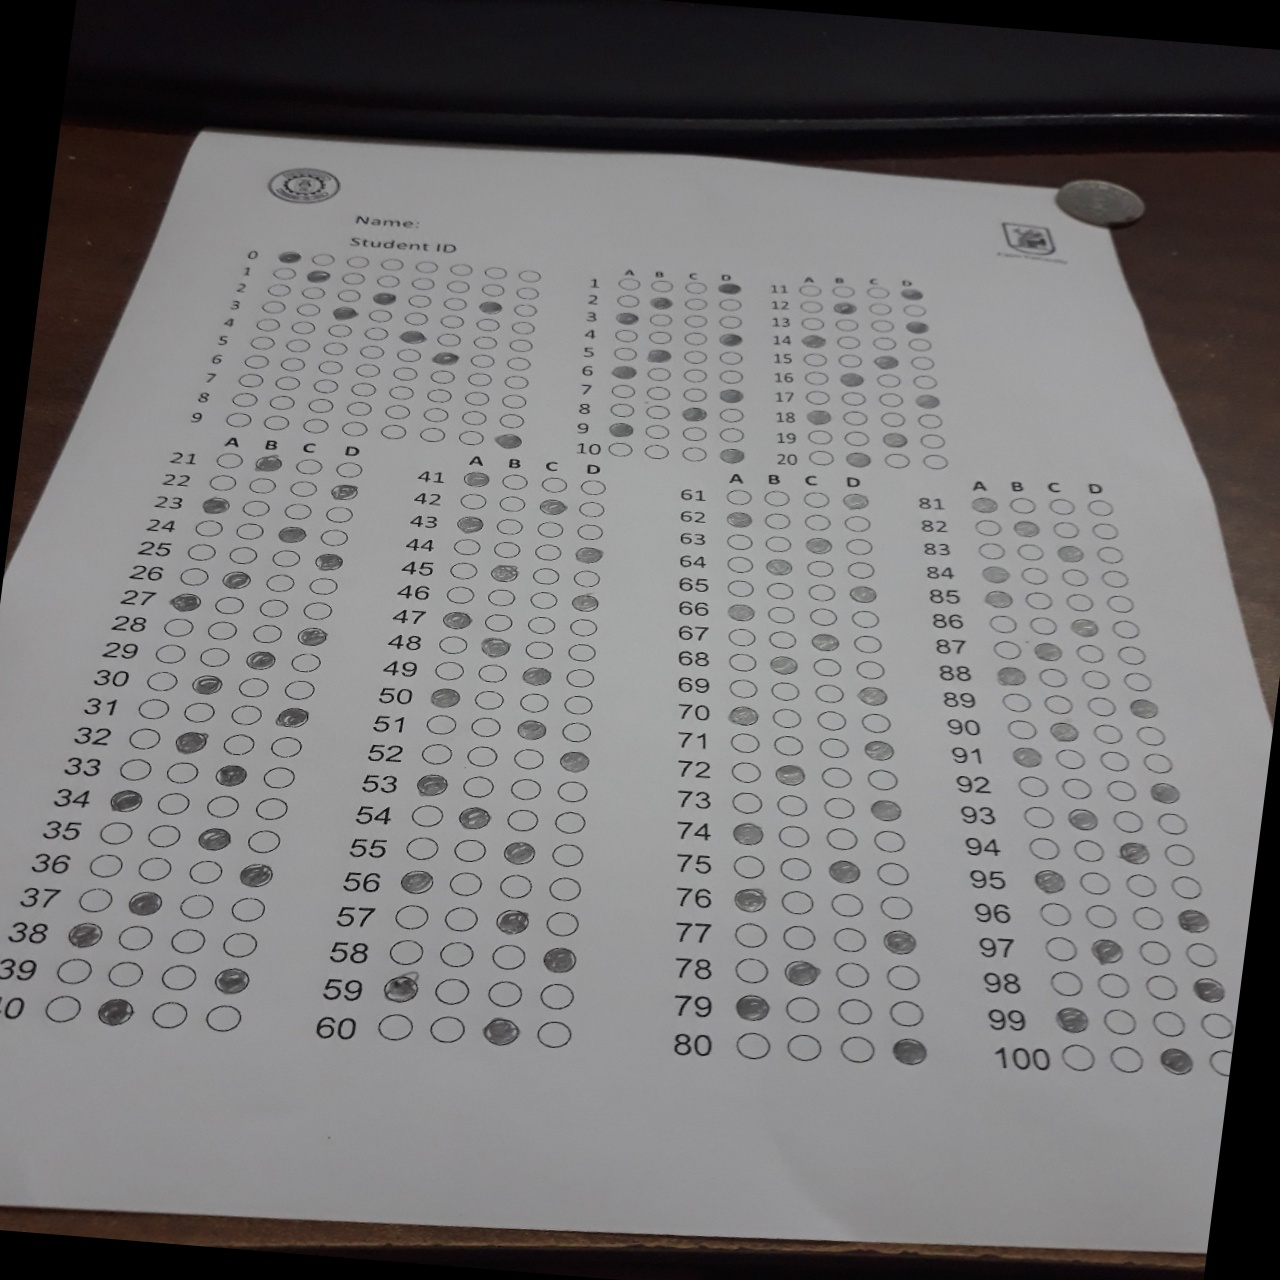not-c: (185, 856, 226, 886), (427, 1014, 467, 1044), (164, 756, 204, 787), (142, 822, 183, 851), (115, 756, 156, 785), (531, 1019, 570, 1049), (53, 956, 91, 987), (105, 959, 144, 989), (97, 816, 136, 846), (787, 1033, 826, 1062), (733, 920, 772, 949), (829, 925, 869, 954), (486, 978, 526, 1007), (148, 1000, 188, 1029), (42, 993, 82, 1022), (158, 961, 198, 990), (115, 922, 155, 952), (168, 925, 207, 954), (229, 896, 268, 925), (176, 890, 216, 919), (76, 886, 116, 915), (135, 852, 175, 881), (252, 795, 292, 824), (257, 764, 297, 794), (838, 1035, 877, 1064), (881, 961, 920, 990), (830, 890, 869, 919), (376, 1012, 415, 1041), (490, 941, 529, 971), (220, 931, 259, 960), (87, 850, 125, 879), (244, 826, 282, 856), (835, 996, 874, 1024), (731, 956, 771, 985), (873, 858, 913, 886), (441, 906, 481, 934), (437, 939, 477, 967), (431, 978, 471, 1006), (536, 982, 576, 1010), (728, 852, 769, 879), (139, 668, 181, 695), (234, 672, 275, 699), (887, 998, 926, 1026), (835, 960, 873, 988), (779, 922, 818, 951), (877, 892, 915, 920), (778, 888, 817, 917), (204, 1003, 243, 1032), (152, 787, 191, 815), (205, 792, 244, 821), (1107, 1046, 1146, 1073), (777, 855, 817, 881), (774, 823, 813, 850), (392, 903, 431, 930), (219, 731, 259, 758), (277, 673, 316, 700), (286, 649, 326, 676), (195, 644, 234, 670), (1167, 874, 1205, 903), (784, 995, 822, 1023), (447, 869, 484, 897), (1074, 869, 1112, 896), (734, 1032, 772, 1058), (871, 828, 910, 855), (544, 910, 583, 937), (387, 938, 425, 965), (125, 724, 164, 751), (267, 733, 306, 760), (1060, 1046, 1099, 1071), (822, 826, 862, 852), (498, 871, 535, 899), (547, 873, 584, 901), (1160, 840, 1198, 867), (1123, 871, 1160, 898), (1144, 974, 1182, 1001), (1197, 1012, 1234, 1039), (771, 789, 809, 816), (136, 695, 173, 722), (1024, 836, 1063, 862), (1129, 905, 1167, 931), (729, 789, 768, 815), (821, 796, 859, 822), (179, 700, 218, 726), (549, 842, 585, 869), (1137, 940, 1175, 966), (1185, 942, 1223, 968), (1096, 972, 1133, 998), (1150, 1010, 1187, 1036), (463, 743, 501, 769), (461, 774, 498, 799), (550, 809, 587, 835), (225, 700, 263, 726), (1099, 1008, 1138, 1033), (819, 762, 855, 789), (812, 678, 847, 704), (1070, 838, 1107, 864), (1084, 904, 1121, 930), (1036, 901, 1073, 927), (802, 602, 838, 628), (510, 745, 546, 771), (503, 806, 539, 832), (813, 707, 849, 733), (726, 676, 761, 702), (769, 678, 804, 703), (763, 627, 798, 653), (406, 836, 441, 862), (1041, 937, 1077, 961), (418, 741, 455, 765), (408, 803, 444, 828), (229, 520, 265, 545), (321, 502, 358, 526), (726, 729, 760, 755), (855, 658, 888, 683), (727, 622, 761, 648), (1050, 971, 1085, 995), (865, 768, 900, 792), (728, 758, 763, 783), (859, 710, 894, 735), (769, 704, 804, 729), (767, 578, 802, 602), (804, 580, 839, 605), (468, 715, 503, 740), (424, 714, 459, 738), (508, 777, 543, 802), (178, 564, 213, 588), (331, 457, 366, 482), (556, 779, 592, 803), (203, 618, 239, 641), (209, 593, 245, 617), (259, 571, 295, 594), (185, 537, 222, 560), (316, 526, 353, 550), (817, 734, 850, 760), (810, 653, 844, 678), (726, 649, 760, 674), (850, 632, 884, 656), (726, 576, 760, 600), (481, 612, 515, 636), (1110, 811, 1145, 835), (763, 602, 798, 626), (451, 839, 486, 863), (256, 594, 291, 618), (306, 573, 341, 597), (268, 546, 304, 570), (190, 515, 225, 538), (248, 621, 285, 644), (298, 598, 334, 620), (771, 731, 804, 756), (847, 608, 881, 632), (566, 614, 600, 638), (516, 689, 550, 713), (561, 693, 595, 716), (154, 641, 188, 665), (224, 543, 258, 566), (1015, 775, 1050, 797), (1022, 805, 1057, 828), (485, 585, 518, 608), (526, 612, 559, 635), (522, 639, 554, 662), (563, 639, 595, 662), (476, 660, 509, 683), (159, 615, 196, 636), (1155, 812, 1189, 835), (527, 587, 561, 610), (1206, 1048, 1231, 1078), (845, 558, 877, 581), (438, 632, 470, 655), (564, 666, 595, 689), (435, 659, 467, 682), (560, 720, 592, 743), (1099, 749, 1132, 771), (802, 556, 835, 578), (726, 553, 758, 576), (726, 530, 758, 552), (842, 535, 874, 557), (799, 512, 832, 535), (802, 488, 835, 510), (474, 689, 506, 712), (280, 501, 315, 520), (205, 471, 240, 491), (245, 475, 280, 495), (285, 477, 320, 497), (1061, 777, 1094, 798), (760, 533, 792, 554), (760, 510, 792, 531), (495, 492, 527, 513), (443, 583, 476, 604), (1141, 753, 1171, 775), (1107, 779, 1141, 799), (576, 499, 610, 519), (535, 518, 568, 538), (1091, 723, 1123, 744), (1007, 719, 1039, 740), (840, 513, 872, 535), (723, 485, 755, 506), (762, 486, 794, 508), (573, 520, 605, 542), (213, 451, 248, 470), (1133, 726, 1166, 745), (1073, 642, 1105, 662), (459, 491, 492, 511), (531, 542, 564, 561), (571, 568, 604, 588), (1090, 520, 1121, 542), (1047, 493, 1077, 515), (290, 457, 324, 476), (1006, 493, 1037, 513), (972, 517, 1003, 537), (1055, 749, 1087, 769), (538, 474, 570, 493), (501, 471, 532, 491), (530, 566, 561, 586), (251, 314, 282, 334), (1085, 496, 1115, 517), (239, 499, 274, 517), (452, 536, 485, 554), (489, 540, 522, 559), (449, 560, 482, 579), (222, 410, 254, 429), (236, 370, 268, 389), (256, 297, 288, 315), (1095, 544, 1125, 564), (1099, 570, 1130, 590), (1110, 621, 1141, 641), (1116, 645, 1146, 665), (1123, 672, 1153, 692), (1051, 520, 1082, 540), (1017, 566, 1048, 586), (1061, 567, 1091, 587), (1065, 591, 1096, 611), (992, 639, 1022, 659), (1081, 670, 1111, 690), (1001, 692, 1032, 712), (1042, 694, 1073, 714), (1087, 696, 1117, 716), (349, 379, 380, 399), (297, 284, 331, 301), (1028, 617, 1060, 635), (576, 477, 607, 496), (493, 516, 525, 535), (239, 352, 271, 370), (387, 383, 418, 402), (392, 345, 423, 363), (408, 257, 440, 275), (713, 347, 744, 366), (1105, 594, 1135, 614), (978, 540, 1007, 560), (1016, 542, 1046, 561), (1024, 591, 1054, 611), (288, 316, 321, 334), (267, 394, 300, 411), (989, 614, 1020, 633), (1036, 667, 1067, 686), (320, 339, 350, 358), (680, 365, 710, 383), (611, 343, 641, 362), (642, 420, 670, 440), (309, 252, 343, 268), (231, 390, 263, 408), (248, 333, 280, 350), (352, 362, 383, 380), (407, 274, 438, 292), (266, 263, 299, 279), (284, 338, 316, 354), (271, 375, 304, 392), (717, 406, 744, 425), (648, 365, 675, 384), (837, 350, 864, 370), (302, 417, 333, 435), (309, 374, 340, 392), (324, 321, 354, 339), (363, 306, 394, 324), (361, 325, 392, 342), (340, 421, 370, 438), (377, 424, 408, 442), (406, 292, 436, 309), (801, 313, 831, 331), (864, 285, 894, 302), (865, 301, 896, 319), (425, 387, 454, 406), (806, 448, 835, 467), (915, 411, 944, 430), (840, 409, 869, 428), (265, 281, 297, 298), (265, 416, 297, 433), (306, 397, 338, 414), (333, 286, 365, 302), (314, 358, 343, 375), (341, 268, 370, 286), (358, 343, 387, 361), (343, 400, 373, 417), (403, 309, 433, 327), (678, 350, 707, 368), (719, 368, 748, 386), (871, 319, 900, 336), (417, 425, 444, 444), (469, 350, 496, 369), (681, 425, 708, 444), (610, 401, 636, 420), (646, 402, 673, 421), (681, 384, 708, 403), (644, 383, 670, 402), (611, 382, 638, 401), (885, 448, 912, 467), (920, 452, 947, 471), (919, 430, 946, 449), (843, 429, 870, 448), (805, 388, 832, 407), (878, 390, 905, 409), (840, 387, 867, 406), (910, 372, 937, 390), (874, 372, 901, 390), (803, 367, 830, 386), (805, 348, 832, 367), (910, 353, 937, 372), (837, 332, 864, 350), (291, 302, 324, 318), (277, 358, 309, 373), (373, 273, 403, 290), (381, 404, 411, 421), (442, 297, 472, 313), (431, 332, 462, 348), (903, 302, 933, 319), (904, 338, 934, 354), (343, 253, 372, 271), (880, 410, 906, 429), (872, 333, 898, 352), (392, 365, 421, 381), (445, 279, 475, 295), (438, 311, 468, 327), (796, 282, 825, 299), (798, 300, 828, 316), (831, 315, 860, 332), (422, 406, 449, 423), (462, 408, 489, 425), (472, 333, 499, 350), (481, 261, 508, 279), (517, 265, 544, 282), (516, 285, 543, 302), (509, 320, 536, 338), (501, 392, 527, 409), (607, 438, 634, 456), (644, 442, 670, 459), (682, 445, 709, 463), (717, 312, 744, 329), (682, 278, 709, 295), (647, 312, 674, 329), (808, 428, 835, 445), (447, 263, 477, 278), (505, 356, 533, 373), (828, 282, 856, 299), (503, 374, 529, 392), (498, 411, 524, 429), (682, 311, 708, 328), (617, 292, 642, 309), (428, 369, 457, 384), (611, 327, 642, 341), (456, 430, 483, 447), (463, 390, 490, 407), (479, 281, 506, 298), (512, 301, 539, 318), (508, 338, 535, 354), (719, 425, 745, 442), (617, 274, 644, 291), (476, 315, 502, 332), (682, 295, 708, 312), (648, 278, 674, 294), (646, 329, 675, 343), (465, 370, 492, 386), (683, 331, 710, 346), (716, 295, 743, 311), (379, 256, 406, 270)
taken-c: (377, 971, 422, 1010), (490, 903, 535, 942), (481, 1012, 523, 1051), (94, 995, 138, 1032), (888, 1035, 931, 1071), (396, 864, 436, 901), (1051, 1003, 1094, 1039), (1084, 934, 1126, 969), (499, 837, 539, 873), (538, 944, 579, 979), (1156, 1046, 1197, 1080), (64, 919, 105, 953), (210, 965, 252, 998), (779, 956, 821, 989), (1008, 742, 1049, 775), (731, 992, 771, 1024), (1029, 865, 1069, 898), (730, 886, 770, 918), (554, 748, 594, 779), (171, 727, 211, 758), (210, 760, 250, 791), (234, 859, 275, 890), (879, 927, 918, 959), (413, 769, 451, 801), (105, 787, 145, 817), (195, 825, 234, 856), (990, 661, 1032, 690), (512, 716, 550, 748), (455, 804, 493, 835), (125, 888, 164, 919), (1190, 975, 1227, 1005), (440, 607, 477, 636), (1117, 839, 1153, 869), (478, 634, 515, 663), (567, 590, 604, 619), (724, 703, 762, 731), (862, 736, 899, 764), (1065, 805, 1101, 835), (771, 762, 808, 790), (1175, 908, 1211, 937), (427, 685, 463, 713), (980, 586, 1017, 613), (976, 561, 1014, 588), (189, 670, 226, 697), (520, 663, 556, 692), (869, 798, 905, 825), (730, 821, 767, 847), (825, 859, 862, 886), (273, 704, 309, 731), (218, 567, 254, 593), (168, 591, 204, 617), (294, 624, 331, 649), (241, 647, 278, 673), (1126, 696, 1162, 722), (1047, 719, 1082, 744), (486, 560, 522, 586), (571, 543, 606, 568), (452, 511, 488, 537), (274, 523, 309, 549), (309, 550, 345, 576), (765, 653, 802, 678), (326, 481, 362, 505), (252, 451, 288, 476), (1148, 779, 1182, 805), (535, 495, 568, 520), (806, 631, 842, 655), (853, 685, 888, 709), (199, 493, 234, 518), (459, 468, 492, 493), (1032, 639, 1065, 663), (1009, 517, 1043, 540), (1054, 543, 1088, 566), (1067, 617, 1101, 640), (491, 430, 524, 454), (967, 493, 1000, 517), (715, 277, 747, 300), (837, 369, 869, 393), (870, 352, 903, 374), (613, 307, 644, 331), (605, 418, 636, 441), (644, 346, 675, 368), (646, 292, 678, 314), (713, 329, 744, 352), (843, 449, 874, 471), (879, 430, 911, 452), (911, 389, 942, 411), (803, 407, 835, 429), (799, 331, 831, 353), (903, 316, 934, 339), (839, 492, 871, 515), (803, 535, 835, 557), (847, 584, 879, 606), (678, 404, 710, 425), (717, 386, 748, 408), (831, 299, 862, 321), (724, 509, 755, 531), (763, 557, 794, 579), (715, 445, 747, 467), (474, 297, 506, 316), (608, 363, 639, 384), (726, 601, 756, 622), (301, 267, 333, 287), (367, 290, 399, 309), (329, 304, 361, 324), (272, 248, 305, 267), (396, 328, 428, 347), (429, 349, 461, 368), (897, 284, 926, 304)
